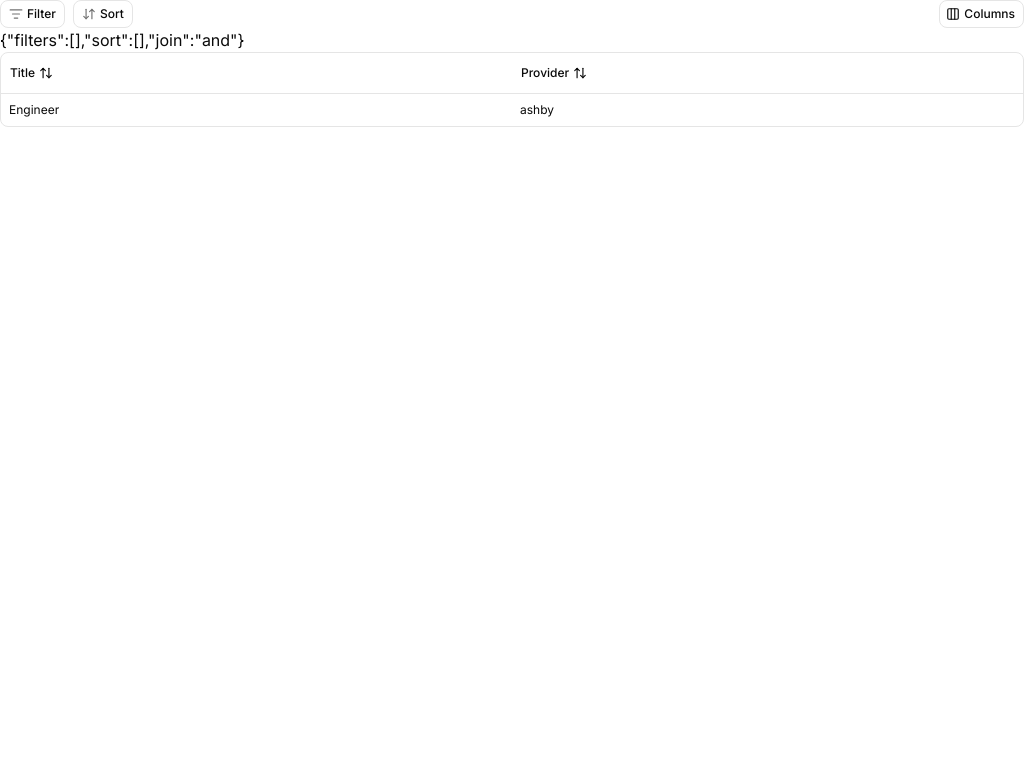
it: searches column checkboxes and changes visibility with the keyboard
Later steps or results of the test are not shown.
Step 1. Click the button with aria-label "Customize columns" → (982, 14), box [939,0,1023,28]
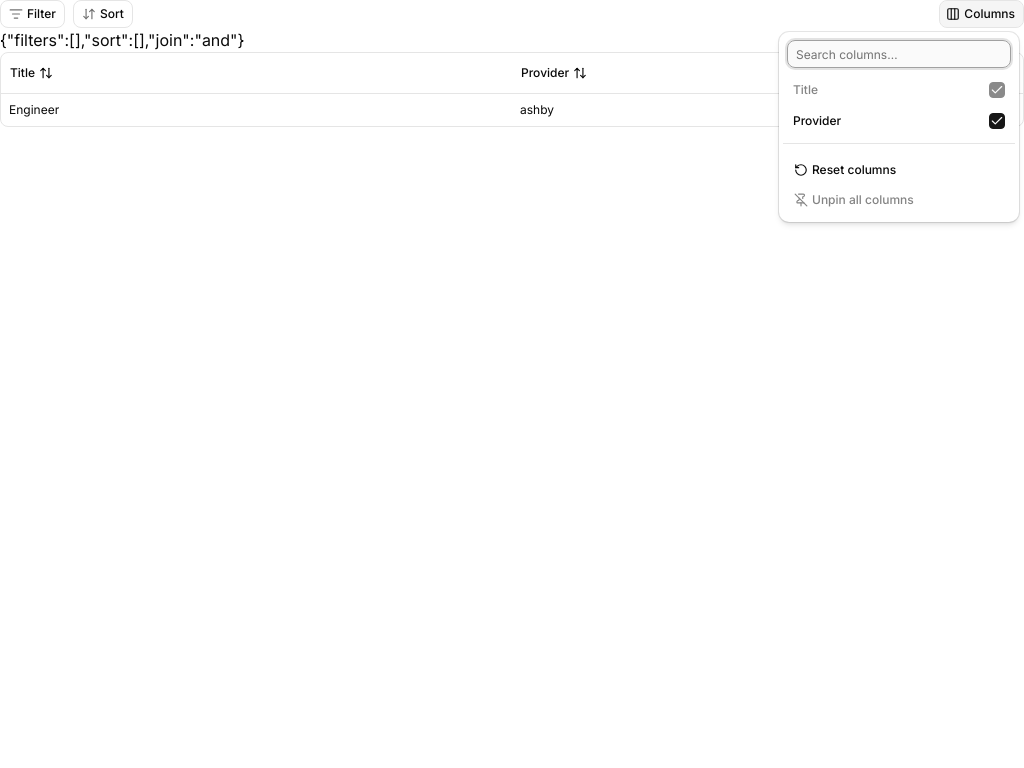
Step 2. Type "Provider" into the field labelled "Search columns" → (899, 54), box [787,40,1011,68]
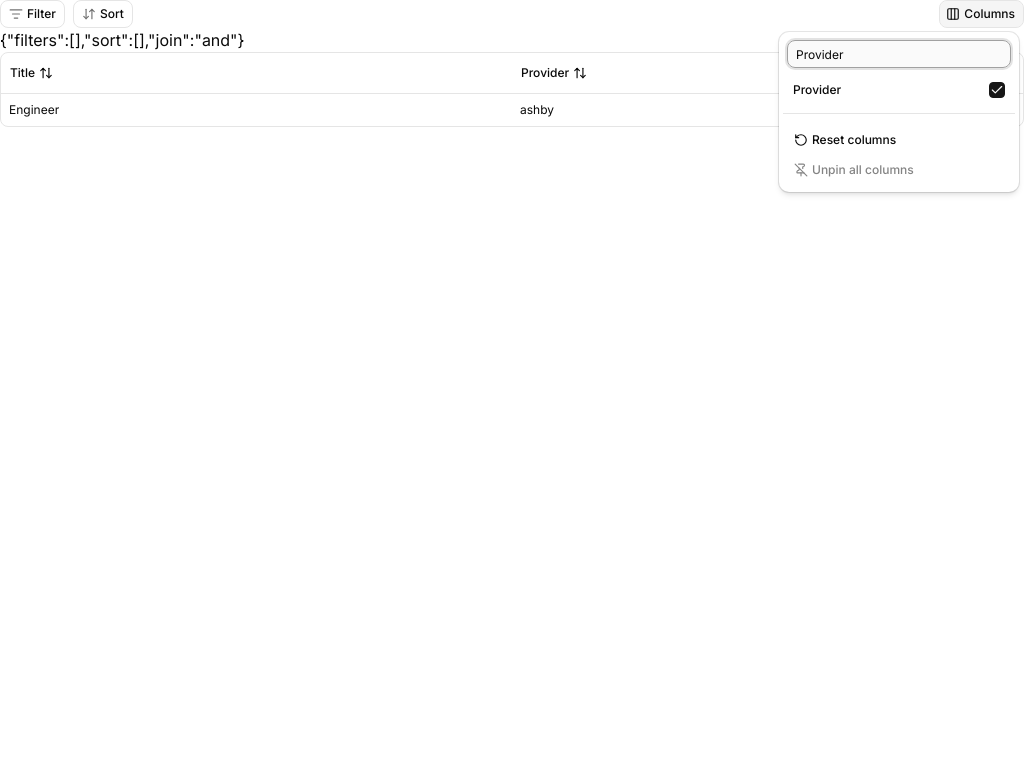
Step 3. Press Tab
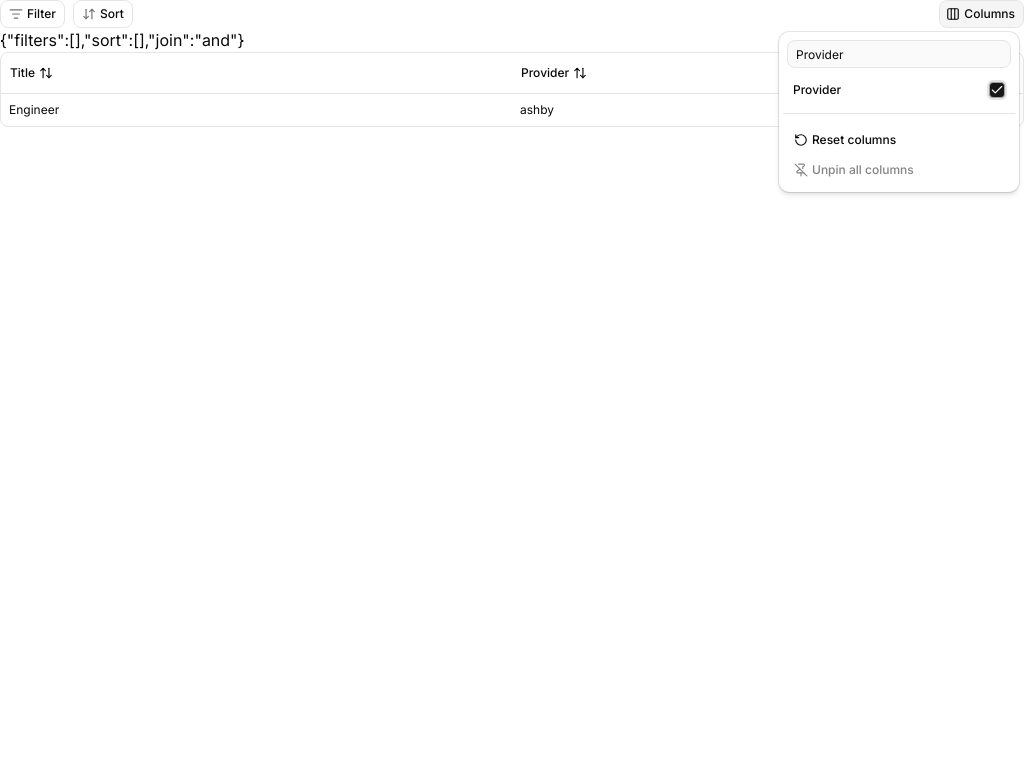
Step 4. Type keys " "
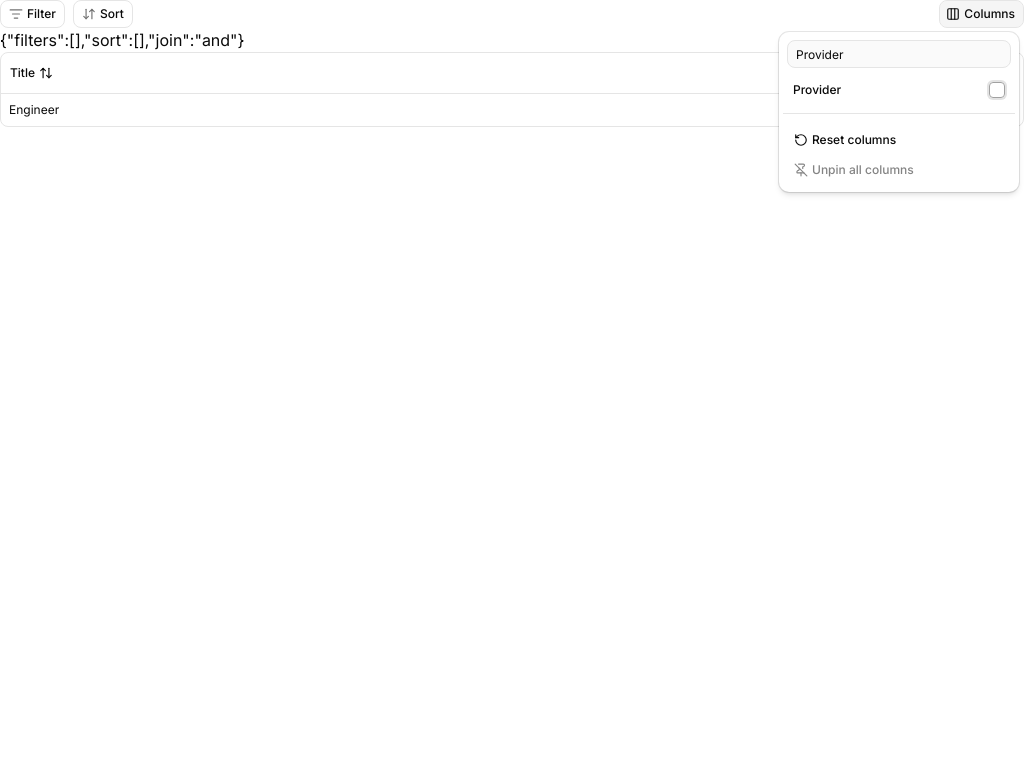
Expected: the checkbox named "Provider" is not checked, [989,82,1005,98]
